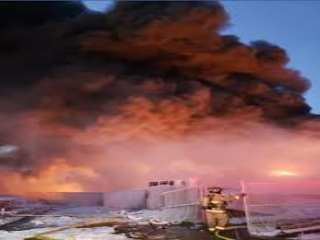smoke: (51, 24, 282, 173)
